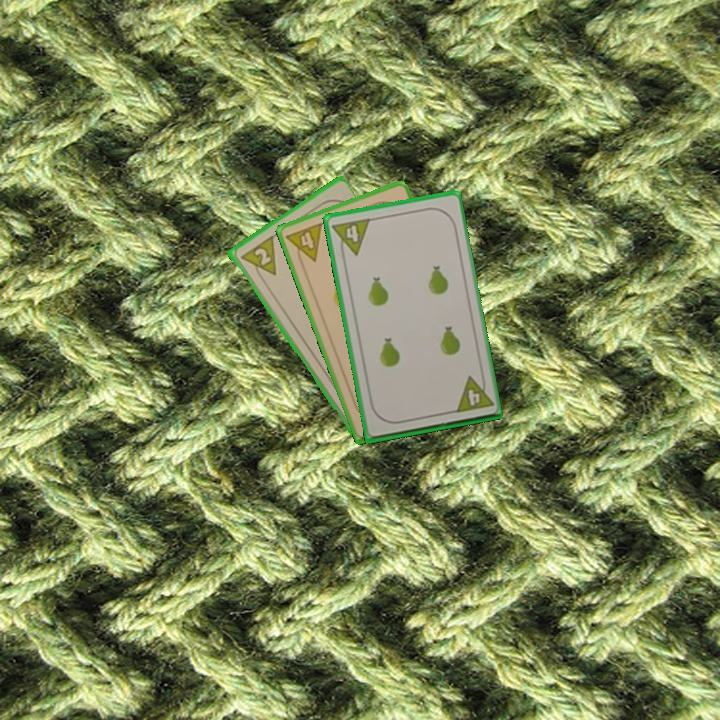2p: (236, 233, 279, 285)
4p: (282, 219, 325, 269), (329, 215, 373, 260), (451, 371, 495, 416)
